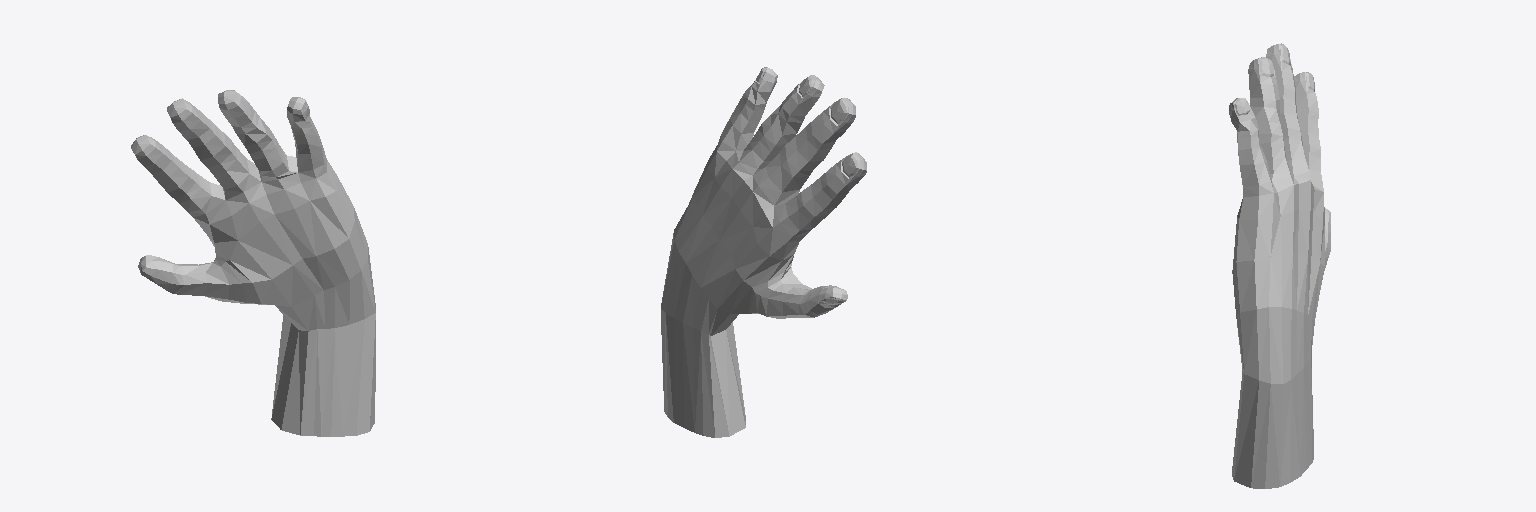
The model's file is handAnimated4_000165.obj.
The picture shows the model from 3 angles: view 1: azimuth 30°, elevation 25°; view 2: azimuth 150°, elevation 25°; view 3: azimuth 270°, elevation 25°; orthographic projection.
Parts seen in each view (by area): view 1: Cube.000_Cube.017_Detached_Detached; view 2: Cube.000_Cube.017_Detached_Detached; view 3: Cube.000_Cube.017_Detached_Detached.
Part boxes in pixels (x1,y1,x2,y2): Cube.000_Cube.017_Detached_Detached: (131, 90, 375, 436); Cube.000_Cube.017_Detached_Detached: (661, 67, 866, 437); Cube.000_Cube.017_Detached_Detached: (1229, 43, 1330, 488).
Size of the model in its own units: 0.7669 by 1.2 by 0.3096.